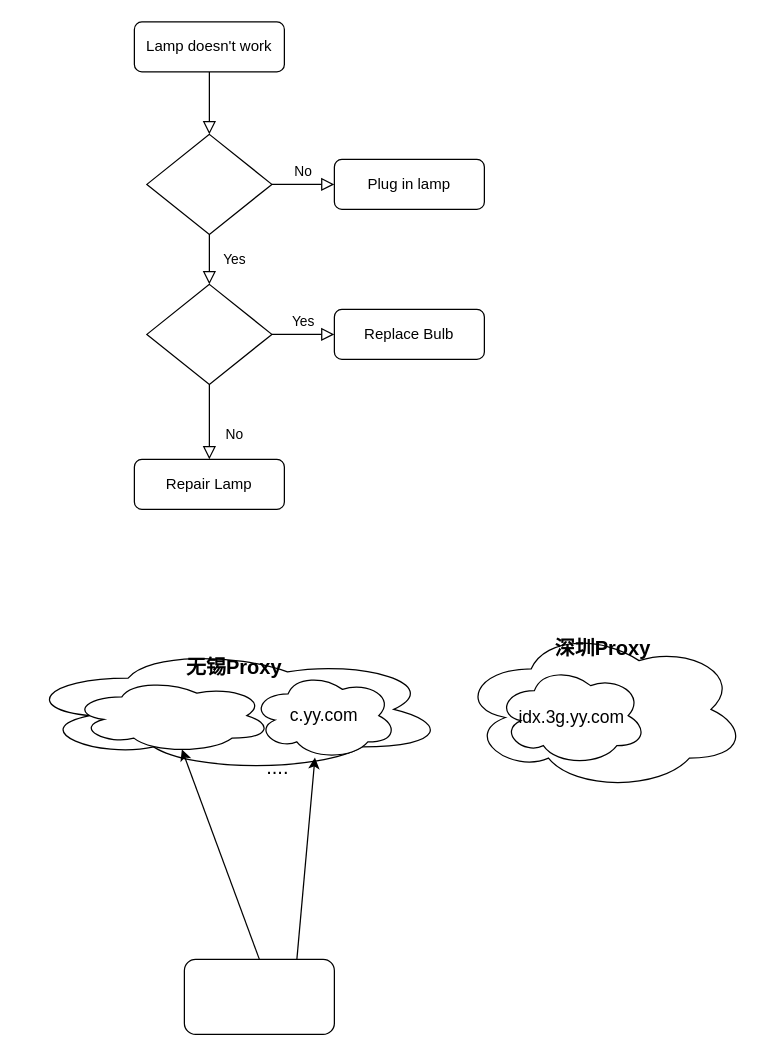
Image size: 769x1056. Some labels were removed from this diagram. The centre of each missing label's shape, as x and y in pixels:
a.yy.com b.yy.com: [171,715]
Bulb burned out?: [209,333]
Lamp plugged in?: [209,183]
无锡用户: [258,996]
